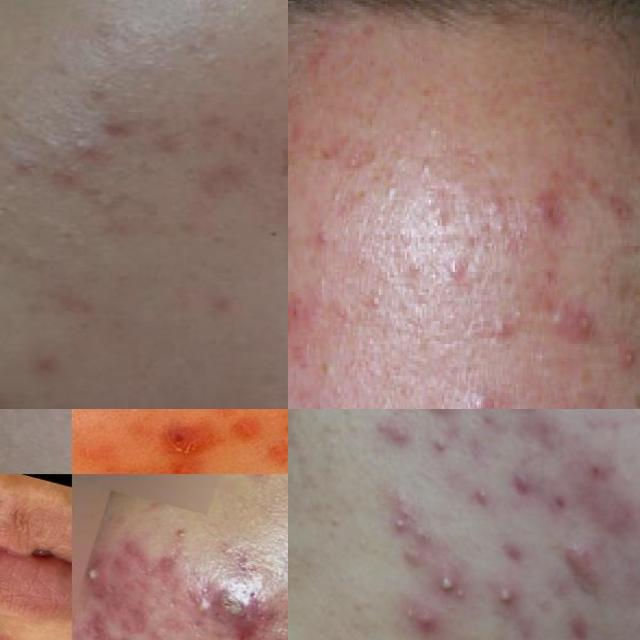acne_scars: (72, 614, 173, 640)
comedone: (68, 127, 124, 161), (383, 500, 425, 542), (457, 480, 494, 515), (43, 125, 67, 173), (432, 431, 460, 469), (25, 409, 72, 428)
papule: (141, 409, 217, 470), (561, 546, 619, 610), (208, 409, 278, 455), (371, 409, 425, 456), (77, 455, 167, 474), (578, 448, 620, 486), (397, 537, 432, 570), (506, 466, 541, 498), (495, 409, 548, 419)
pustule: (72, 546, 139, 610), (398, 601, 442, 638), (431, 569, 467, 600), (493, 582, 522, 612)
sebo-crystan-conglo: (190, 569, 288, 640)
